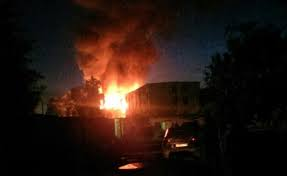fire: (84, 65, 179, 115)
